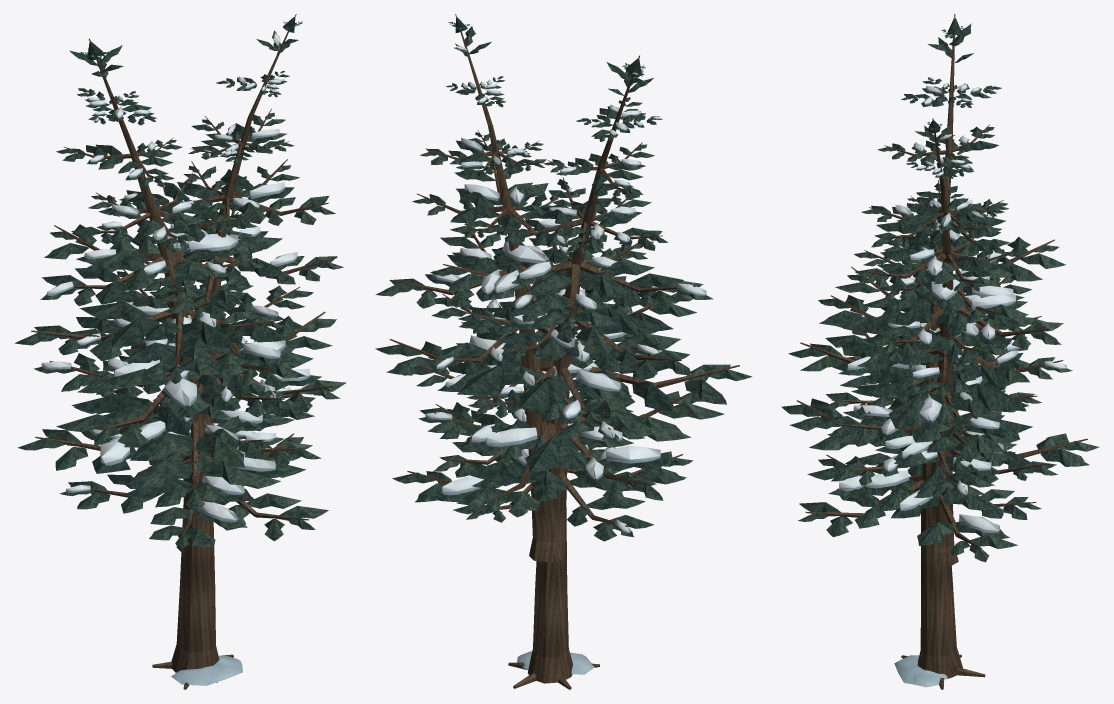
The model's file is 31_Forked_Pine.obj.
The picture shows the model from 3 angles, left to right: view 1: azimuth 30°, elevation 25°; view 2: azimuth 150°, elevation 25°; view 3: azimuth 270°, elevation 25°; orthographic projection. The views are drawn at different scales.
Visible parts, largest first — view 1: 31_Forked_Pine; view 2: 31_Forked_Pine; view 3: 31_Forked_Pine.
Boxes of the visible parts, box(x1,y1,x2,y2) form: 31_Forked_Pine: box(14, 14, 346, 689); 31_Forked_Pine: box(375, 14, 752, 689); 31_Forked_Pine: box(781, 14, 1099, 689).
Bounding box in the file's own units: 2.99 × 5.78 × 2.72.
Materials: 5 (5 with a texture image).
